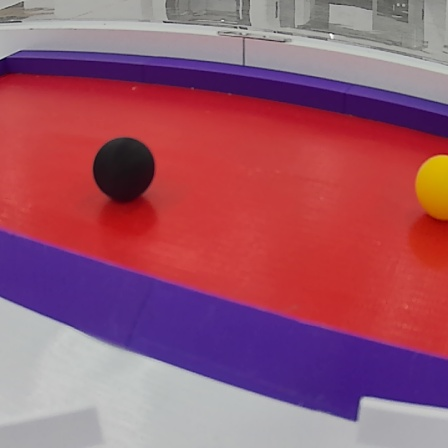black: (83, 136, 156, 201)
red_aim: (2, 38, 448, 427)
yellow: (413, 148, 448, 221)
